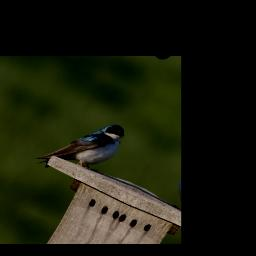Swallow: (29, 101, 131, 194)
